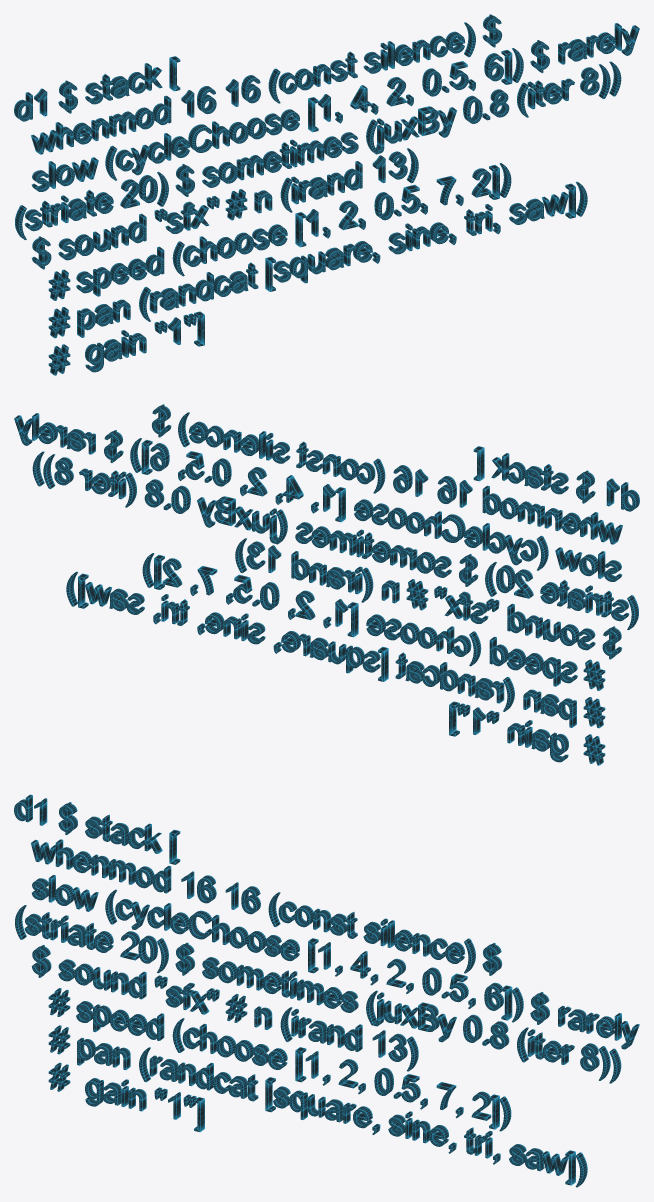
Rendered from alexandra_cardenas_code.glb.
3 renders of one model, top to bottom at view 1: azimuth 30°, elevation 25°; view 2: azimuth 150°, elevation 25°; view 3: azimuth 330°, elevation 25°, orthographic.
Parts seen in each view (by area): view 1: Object_2, Object_3; view 2: Object_2, Object_3; view 3: Object_2, Object_3.
Boxes of the visible parts, <box> form: Object_2: <box>14,14,639,375</box>; Object_3: <box>15,22,621,361</box>; Object_2: <box>14,404,639,765</box>; Object_3: <box>32,412,638,751</box>; Object_2: <box>14,794,639,1187</box>; Object_3: <box>15,798,621,1187</box>.
Bounding box in the file's own units: 8.83 × 4 × 0.1147.
Materials: 1 (1 with a texture image).
